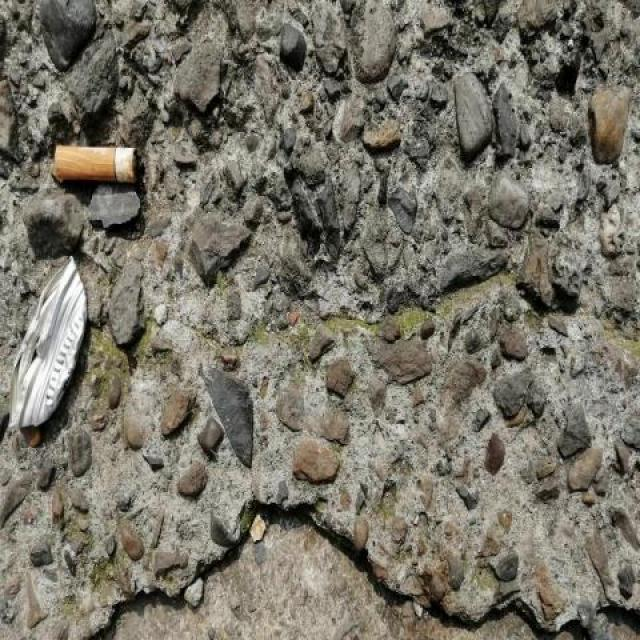non-organic waste: (51, 140, 148, 196)
